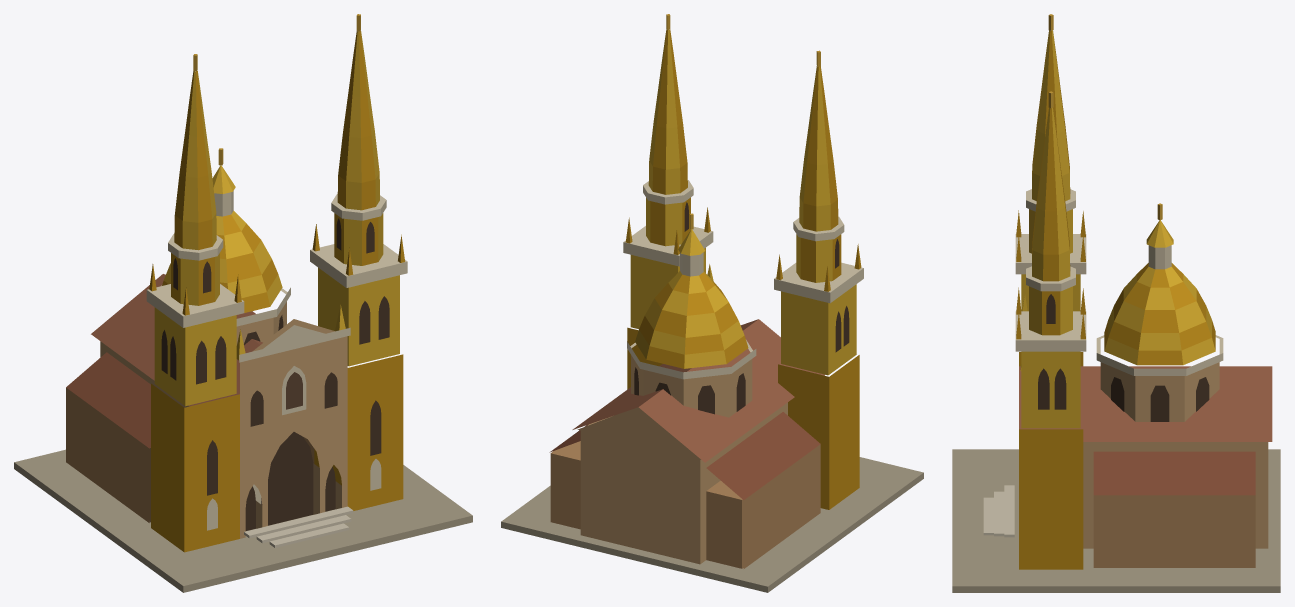
File: cathedrale.glb
The picture shows the model from 3 angles, left to right: view 1: azimuth 30°, elevation 25°; view 2: azimuth 150°, elevation 25°; view 3: azimuth 270°, elevation 25°; orthographic projection. The views are drawn at different scales.
Parts seen in each view (by area): view 1: cathedrale; view 2: cathedrale; view 3: cathedrale.
Part boxes in pixels (<box>): cathedrale: <box>14,14,472,592</box>; cathedrale: <box>501,14,923,592</box>; cathedrale: <box>952,14,1280,592</box>.
Bounding box in the file's own units: 1.56 × 2.5 × 1.58.
